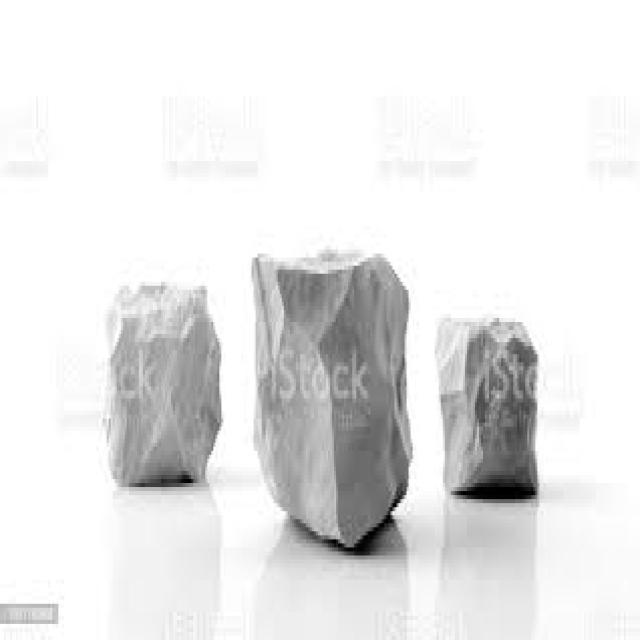Metamorphic: (245, 234, 422, 552), (92, 278, 226, 487), (433, 314, 543, 499)
